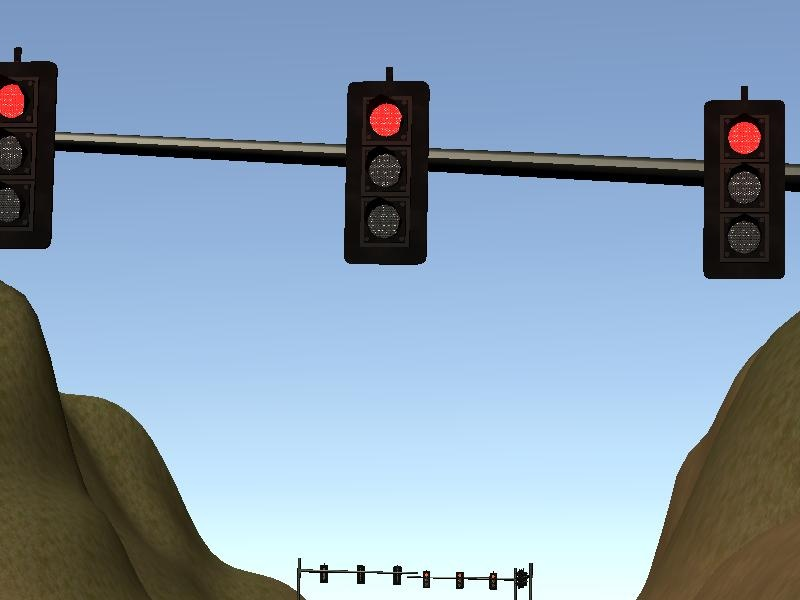RED: (343, 82, 429, 264), (701, 99, 787, 281), (1, 59, 55, 250)
